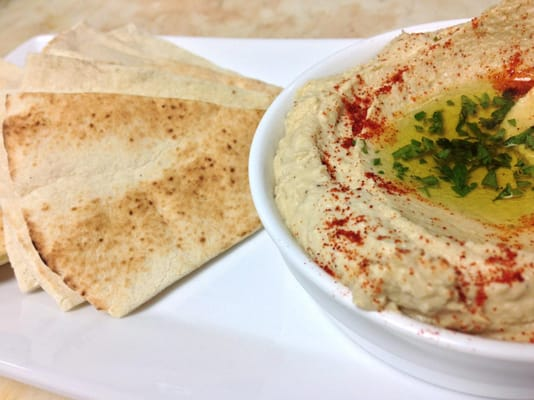sushi: (247, 18, 533, 382)
